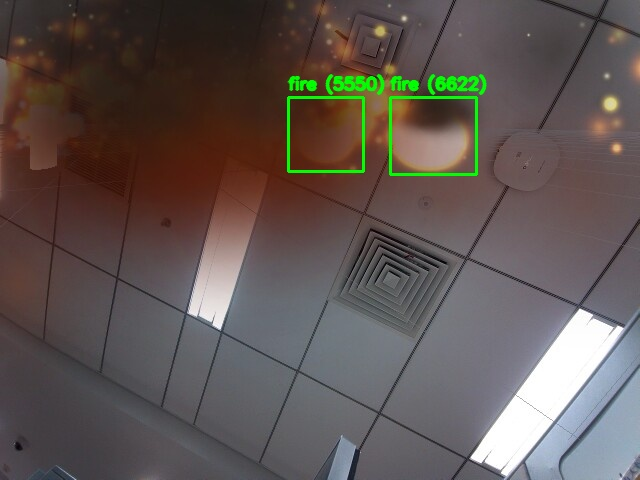fire: (390, 97, 476, 174), (288, 97, 363, 171)
